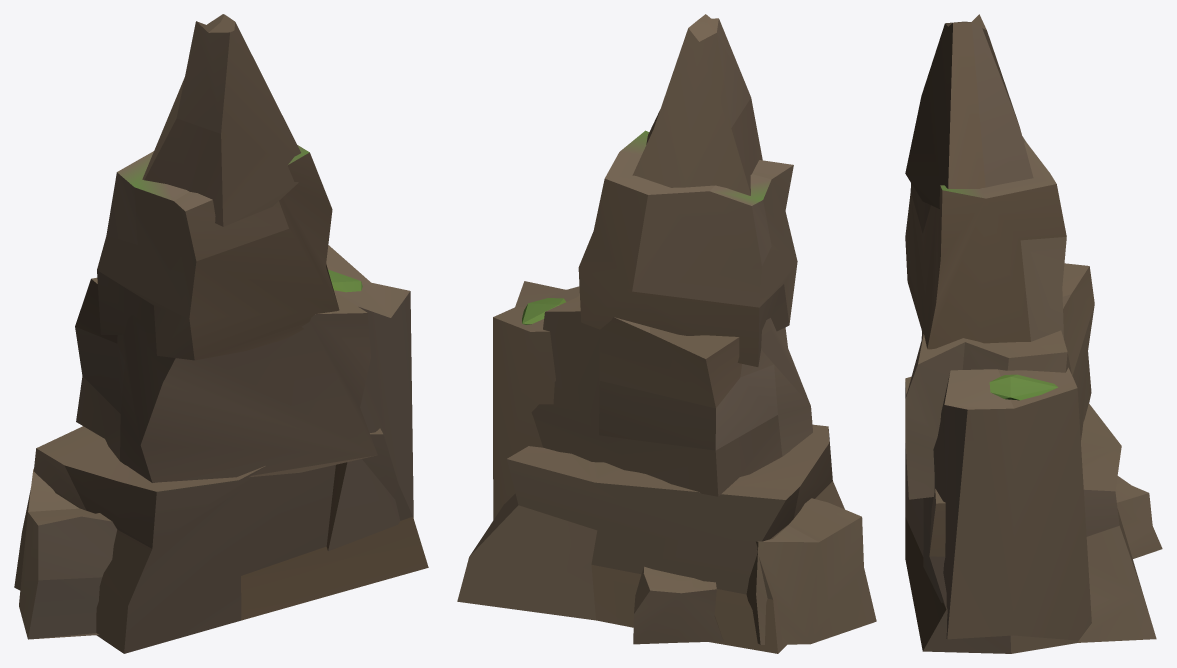
The model's file is cave_rockform_buttress_v3.fbx.
3 renders of one model, left to right at view 1: azimuth 30°, elevation 25°; view 2: azimuth 150°, elevation 25°; view 3: azimuth 270°, elevation 25°, orthographic. The views are drawn at different scales.
Visible parts, largest first — view 1: cave_rockform_buttress_v3; view 2: cave_rockform_buttress_v3; view 3: cave_rockform_buttress_v3.
Part boxes in pixels (left/top/right/bottom): cave_rockform_buttress_v3: left=14, top=14, right=428, bottom=653; cave_rockform_buttress_v3: left=457, top=14, right=876, bottom=653; cave_rockform_buttress_v3: left=905, top=14, right=1162, bottom=653.
Bounding box in the file's own units: 1250 × 1866 × 782.
